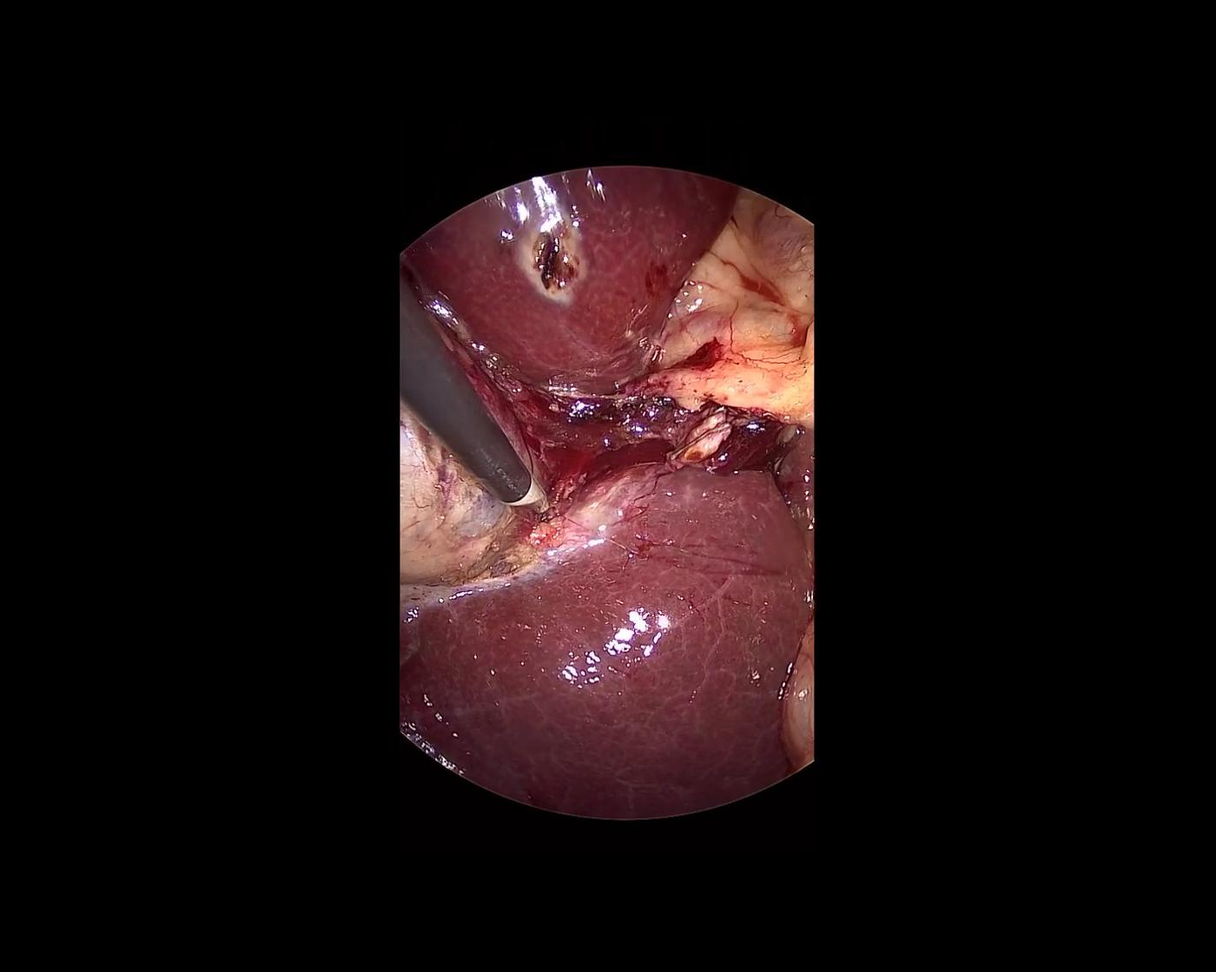Cautery: (339, 262, 557, 554)
Gallbladder: (400, 312, 551, 585)
Liver: (385, 457, 826, 832), (382, 126, 738, 415)
